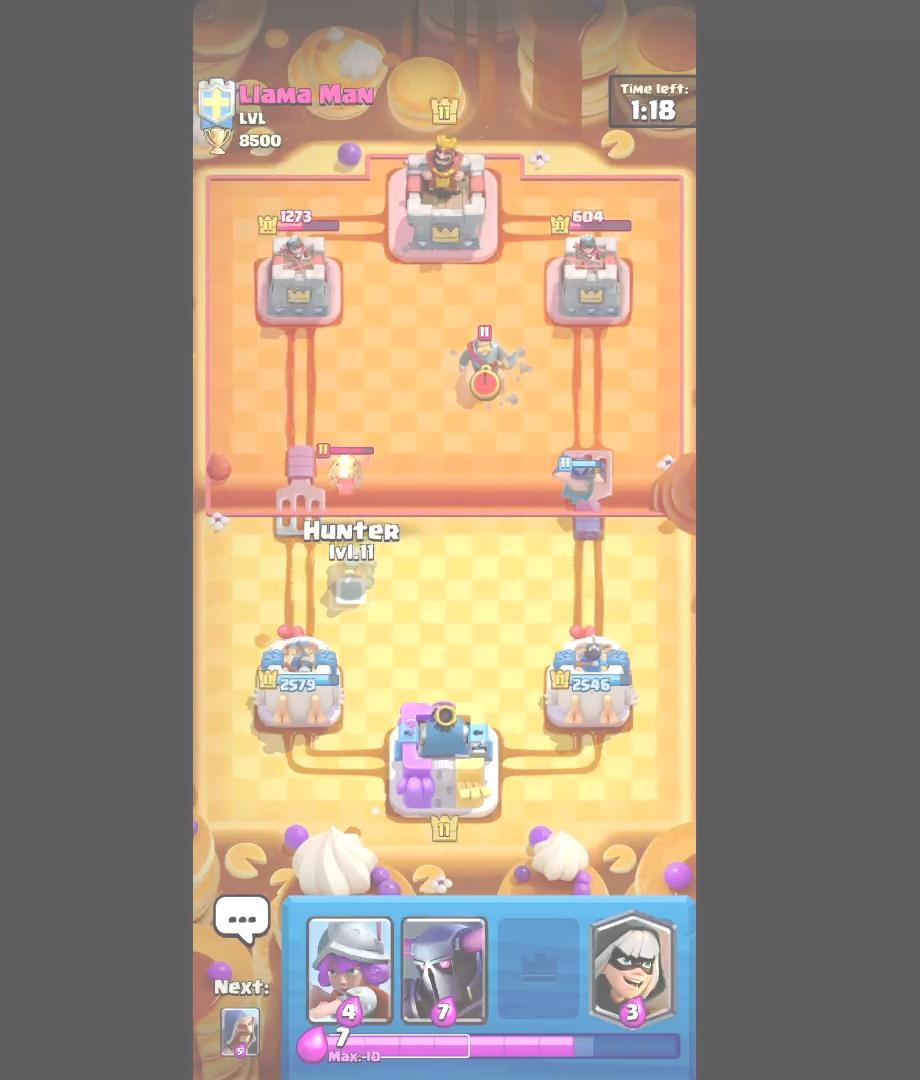Baby Dragon: (301, 436, 385, 501)
Knight: (442, 320, 525, 396)
